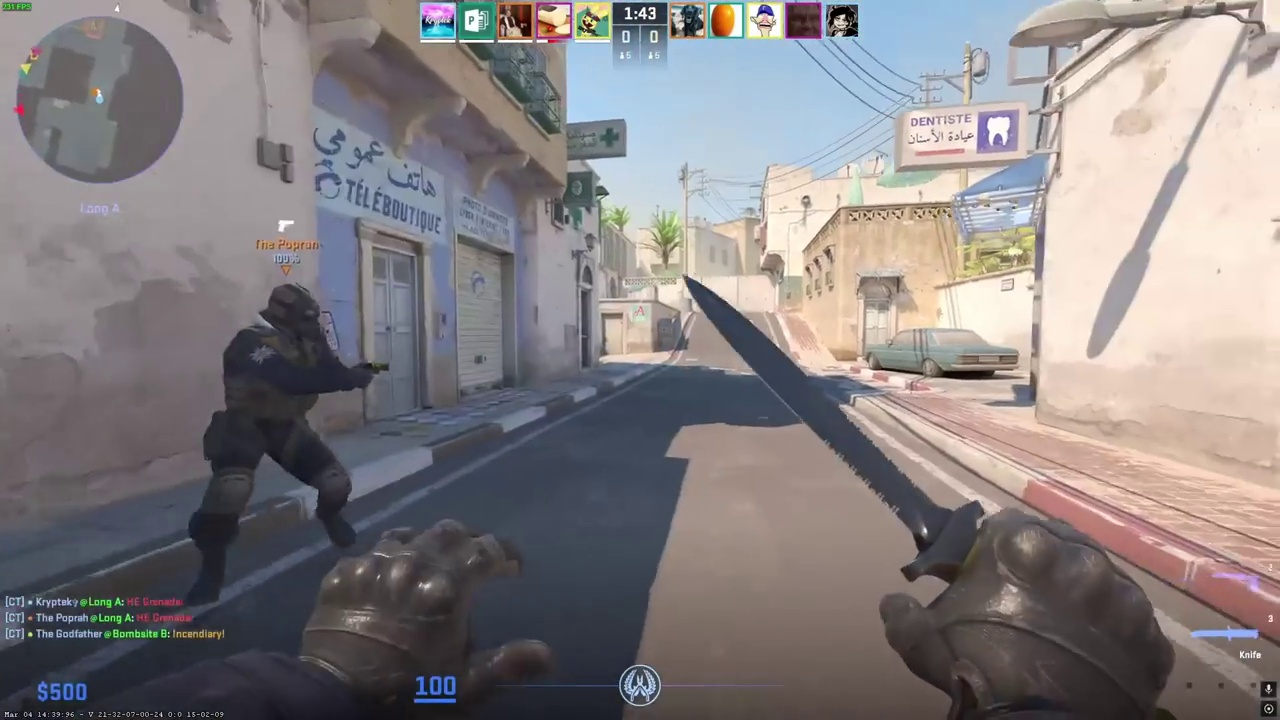CT: (199, 282, 357, 600)
